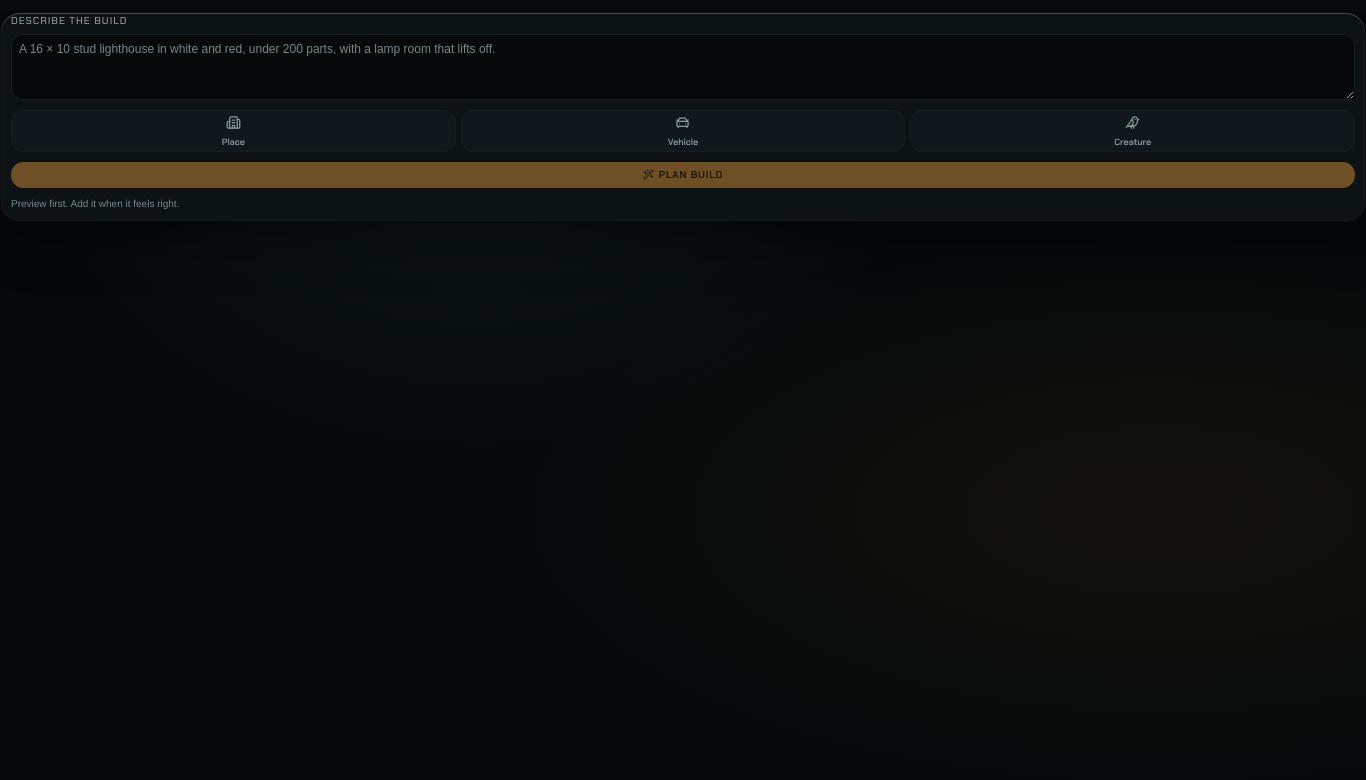
Scenario: conflicts › treats editing the disputed field as settling it
Replace the text in the text box named "What should be built" with "a small 8 x 4 stud red kiosk under 90 parts". click: (683, 67)
box: [11, 34, 1355, 100]
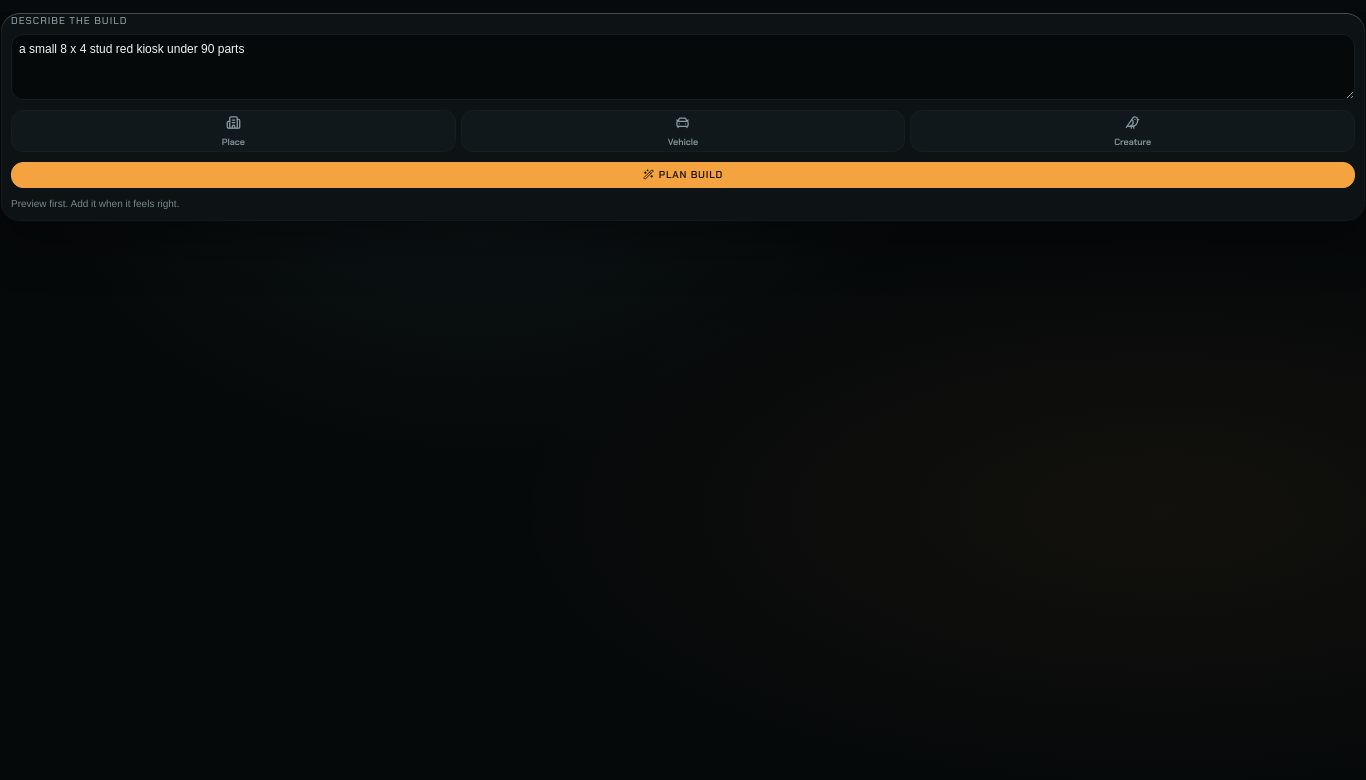
Click the button with aria-label "Compile brief". click: (683, 175)
box: [11, 162, 1355, 188]
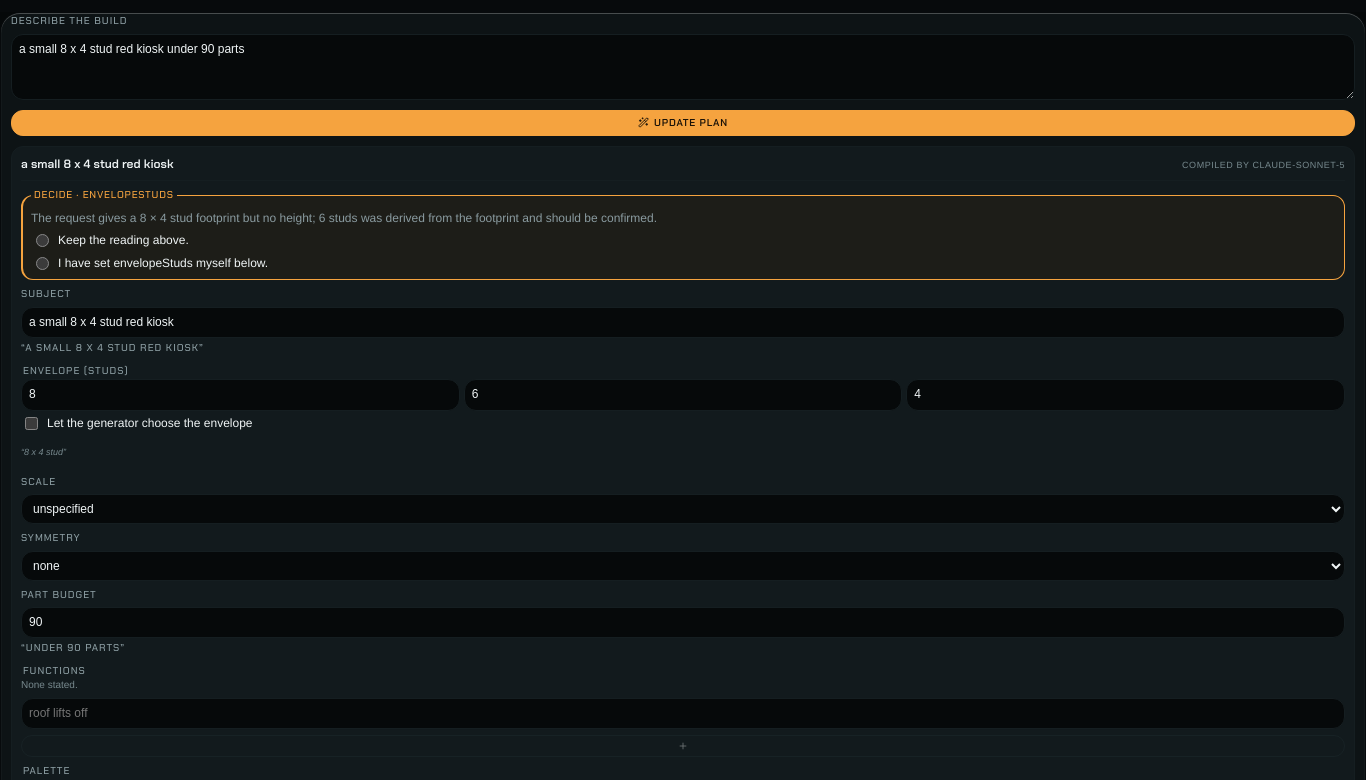
Replace the text in the number field named "Envelope height in studs" with "10". click: (683, 395)
box: [464, 379, 902, 410]
(page scrolled)
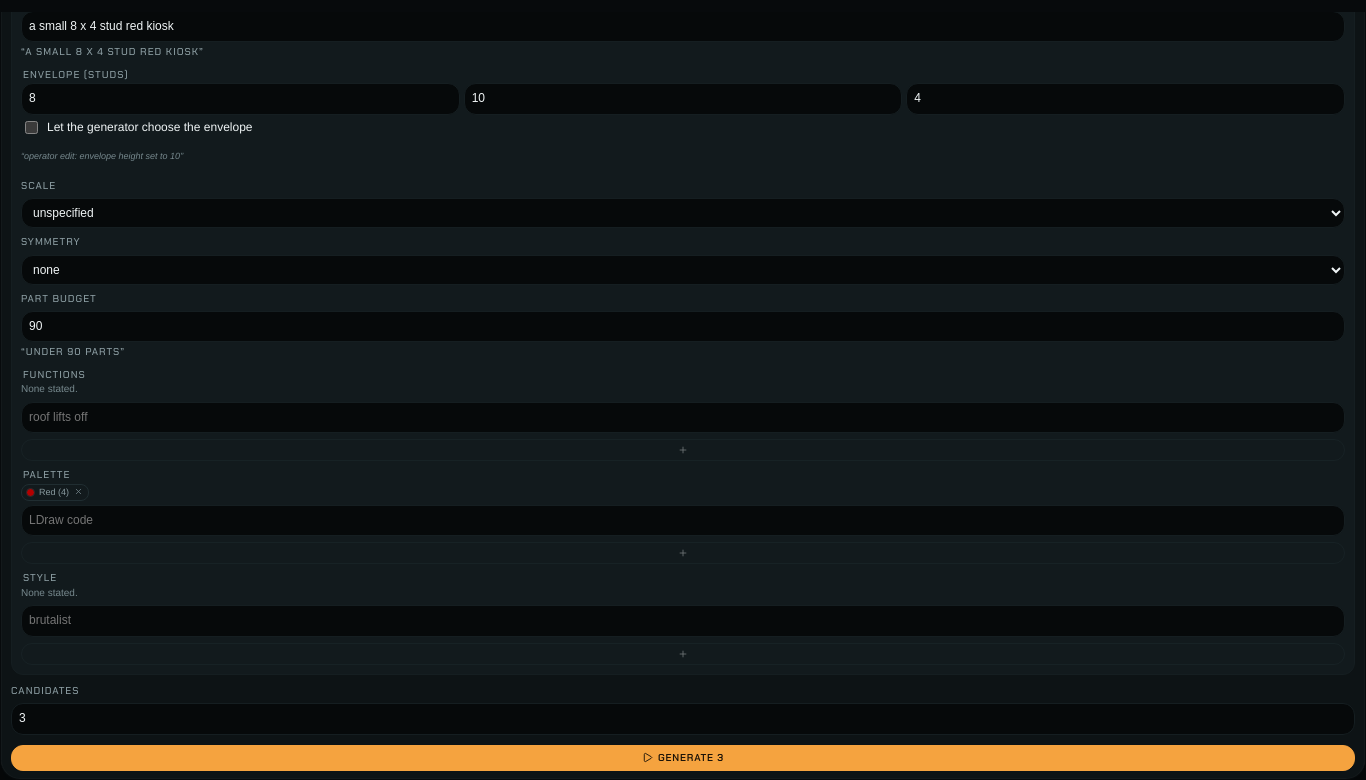
Now the button "Generate 3" is enabled, box [11, 745, 1355, 771]
